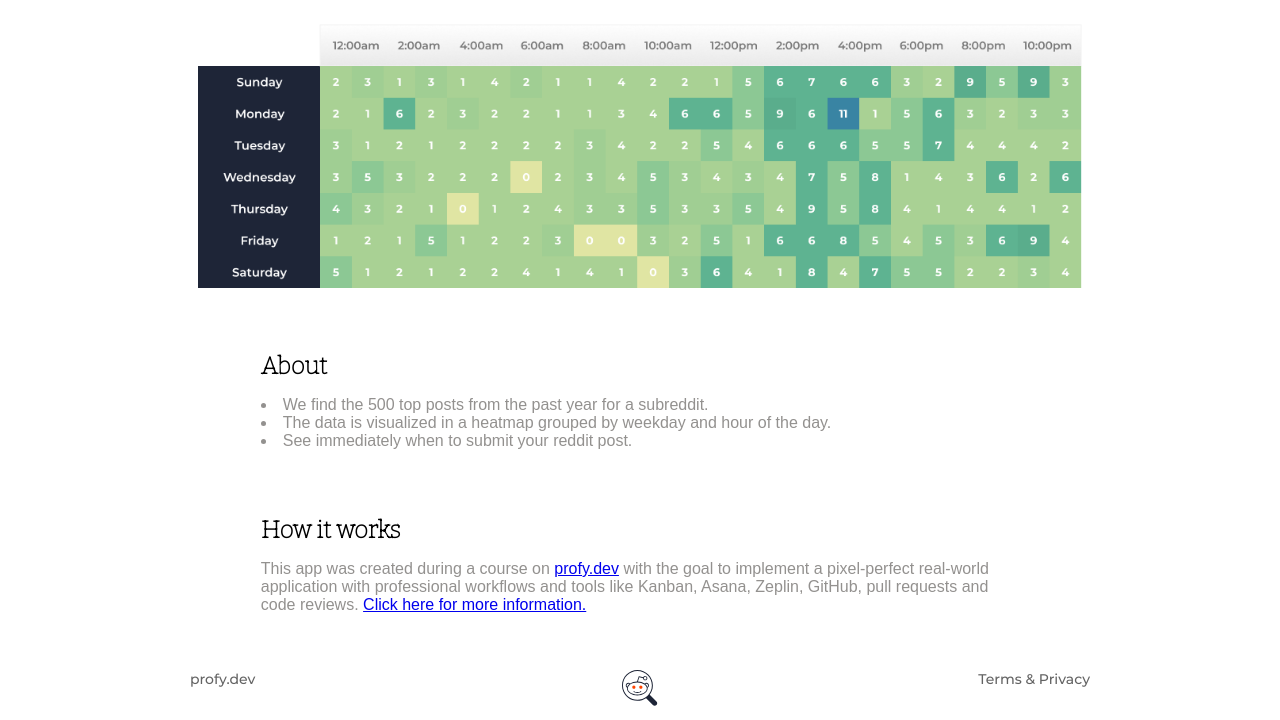
Scenario: navigates to terms page when terms & privacy page is clicked
The width and height of the screenshot is (1280, 720).
(page scrolled)
What coordinates should you click on to do the following:
click the link "Terms & Privacy"
I would click on:
 (1034, 679)
Its box is [978,670,1090,688].
(page scrolled)
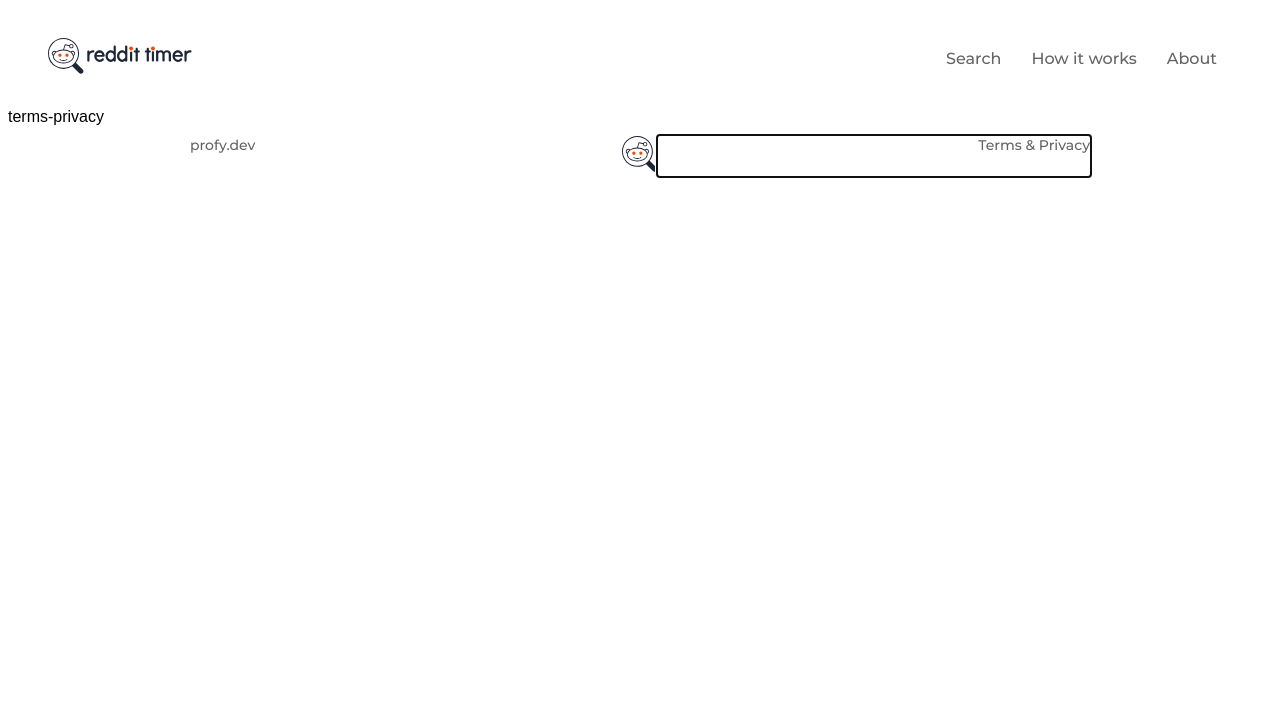
Now the text "terms-privacy" is shown, box [8,108,104,125]
